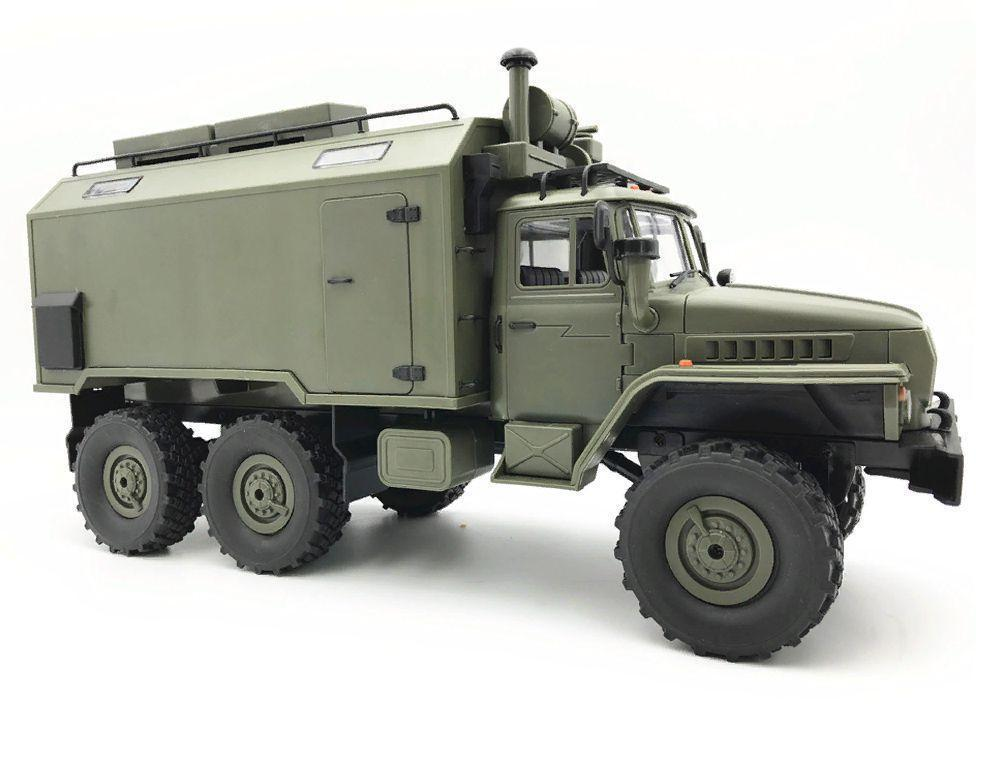truck: (12, 44, 977, 666)
